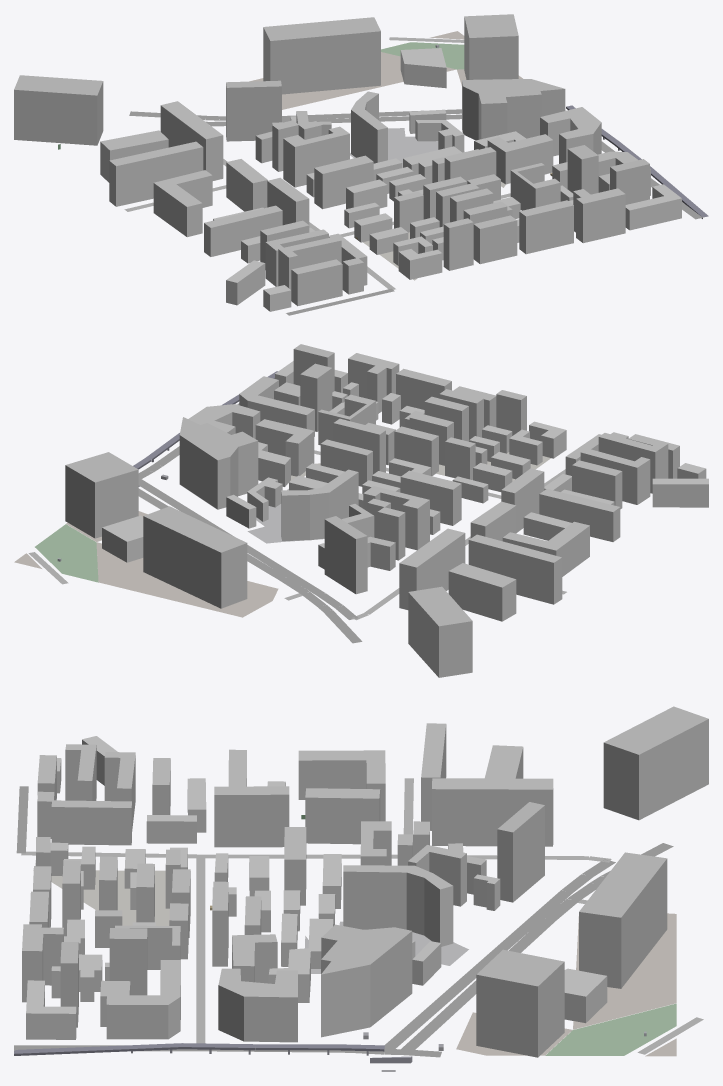
3 renders of one model, top to bottom at view 1: azimuth 30°, elevation 25°; view 2: azimuth 150°, elevation 25°; view 3: azimuth 270°, elevation 25°, orthographic. The views are drawn at different scales.
Size of the model in its own units: 526 by 73.35 by 531.
